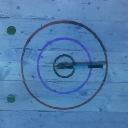Axe Tip: (56, 64, 66, 66)
